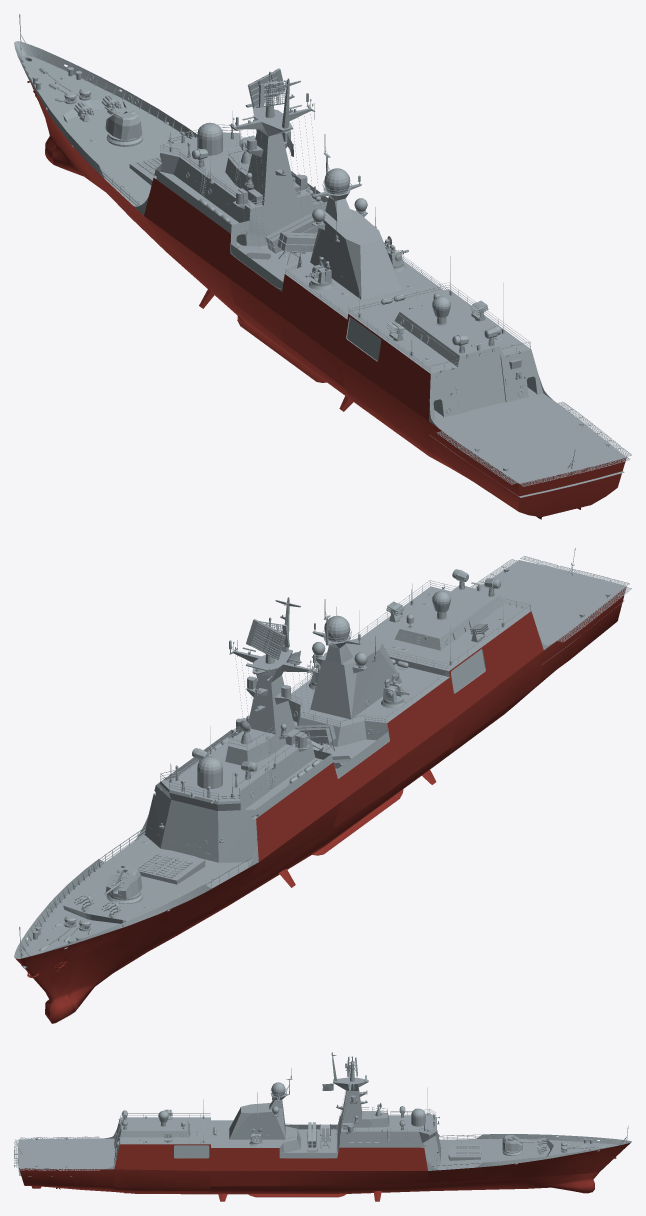
Rendered from ship_example.glb.
3 renders of one model, top to bottom at view 1: azimuth 30°, elevation 25°; view 2: azimuth 150°, elevation 25°; view 3: azimuth 270°, elevation 25°, orthographic. The views are drawn at different scales.
Visible parts, largest first — view 1: atas, bawah; view 2: atas, bawah; view 3: atas, bawah.
Boxes of the visible parts, bbox=[...] form: atas: bbox=[14, 14, 631, 497]; bawah: bbox=[27, 80, 626, 519]; atas: bbox=[14, 548, 631, 968]; bawah: bbox=[15, 586, 626, 1023]; atas: bbox=[14, 1052, 631, 1176]; bawah: bbox=[19, 1143, 630, 1201].
Bounding box in the file's own units: 17.74 × 34 × 135.
